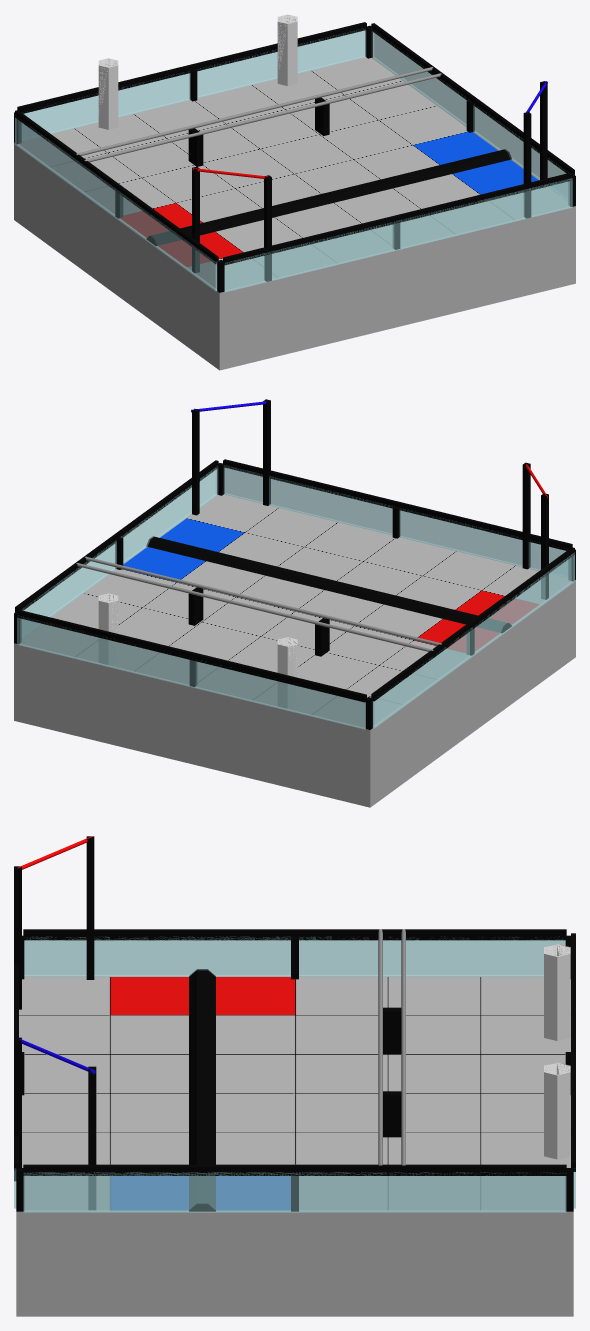
Rendered from field2014_1.FBX.
The picture shows the model from 3 angles, top to bottom: view 1: azimuth 30°, elevation 25°; view 2: azimuth 150°, elevation 25°; view 3: azimuth 270°, elevation 25°; orthographic projection. The views are drawn at different scales.
Visible parts, largest first — view 1: Box001, Box005, Box004, Box002, Box003, Box018, Box016, Box014, Box015, Box017, Cylinder001, Cylinder003 (+8 smaller); view 2: Box001, Box004, Box005, Box002, Box003, Box018, Box014, Box016, Box015, Box017, Cylinder003, Cylinder004 (+6 smaller); view 3: Box001, Box003, Box002, Box017, Box015, Box018, Cylinder001, Cylinder002, Box024, Box014, Cylinder004, Cylinder003 (+5 smaller).
Boxes of the visible parts, x1,y1,x2,y2 form: Box001: [14, 57, 575, 370]; Box005: [224, 178, 572, 292]; Box004: [22, 28, 366, 140]; Box002: [15, 118, 217, 291]; Box003: [371, 29, 568, 200]; Box018: [146, 149, 511, 245]; Box016: [223, 172, 572, 265]; Box014: [17, 22, 366, 113]; Box015: [15, 110, 218, 264]; Box017: [371, 23, 574, 174]; Cylinder001: [277, 14, 297, 85]; Cylinder003: [76, 67, 432, 155]; Box001: [14, 494, 575, 807]; Box004: [17, 615, 365, 729]; Box005: [223, 465, 567, 577]; Box002: [372, 552, 574, 728]; Box003: [22, 466, 218, 637]; Box018: [146, 536, 511, 632]; Box014: [17, 610, 366, 702]; Box016: [223, 459, 572, 550]; Box015: [371, 547, 574, 701]; Box017: [15, 460, 218, 612]; Cylinder003: [76, 563, 433, 651]; Cylinder004: [85, 556, 441, 645]; Box001: [16, 976, 573, 1316]; Box003: [23, 1172, 566, 1212]; Box002: [24, 936, 565, 976]; Box017: [23, 1164, 566, 1175]; Box015: [23, 929, 566, 940]; Box018: [189, 969, 215, 1211]; Cylinder001: [544, 1062, 570, 1159]; Cylinder002: [544, 944, 570, 1040]; Box024: [86, 836, 94, 979]; Box014: [571, 933, 575, 1171]; Cylinder004: [378, 929, 382, 1165]; Cylinder003: [401, 929, 405, 1165].
Bounding box in the file's own units: 3.69 × 1.78 × 3.69.
